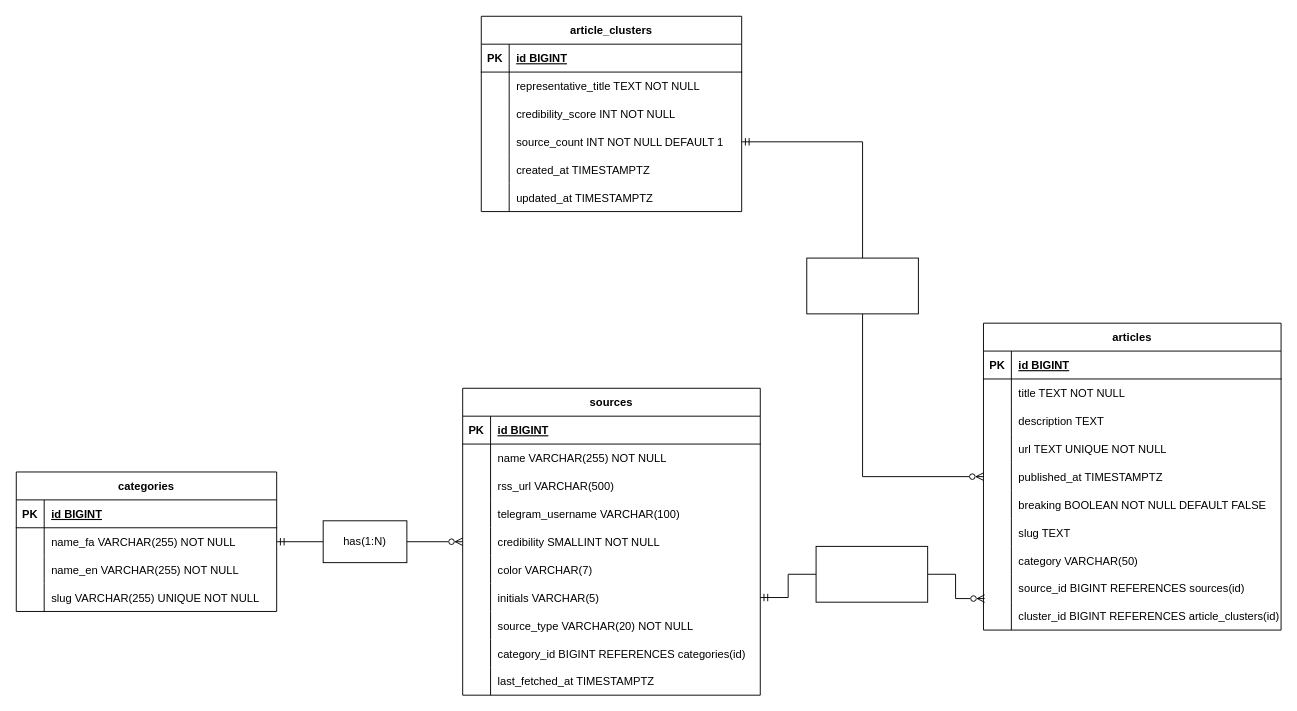
The diagram is 1297 pixels wide and 711 high, and some of its shapes have lost their labels. The shapes that lost their labels are listed below. From the top down, each one's centre as x and y in pixels, then its label:
the point at 862,285: contains(1:N)
the point at 871,573: publishes(1:N)
